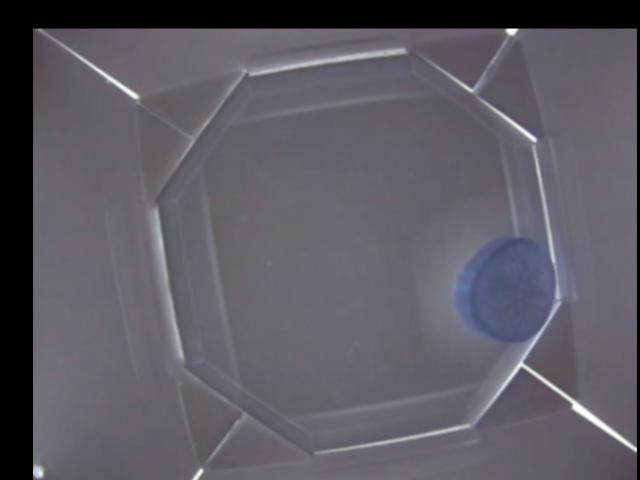Mooli: (454, 238, 561, 342)
